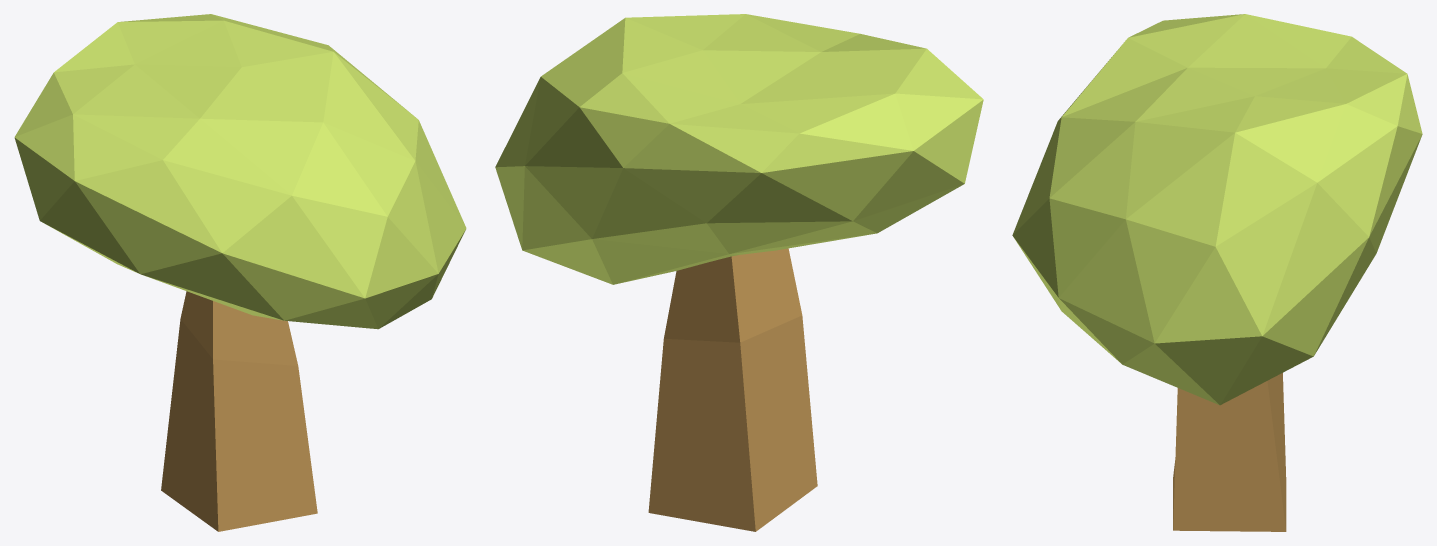
Rendered from Tree_3.glb.
3 renders of one model, left to right at view 1: azimuth 30°, elevation 25°; view 2: azimuth 150°, elevation 25°; view 3: azimuth 270°, elevation 25°, orthographic. The views are drawn at different scales.
Visible parts, largest first — view 1: Tree_3; view 2: Tree_3; view 3: Tree_3.
Boxes of the visible parts, <box> form: Tree_3: <box>14,14,466,531</box>; Tree_3: <box>495,14,983,531</box>; Tree_3: <box>1012,14,1422,531</box>.
Bounding box in the file's own units: 5.44 × 5.46 × 4.78.
